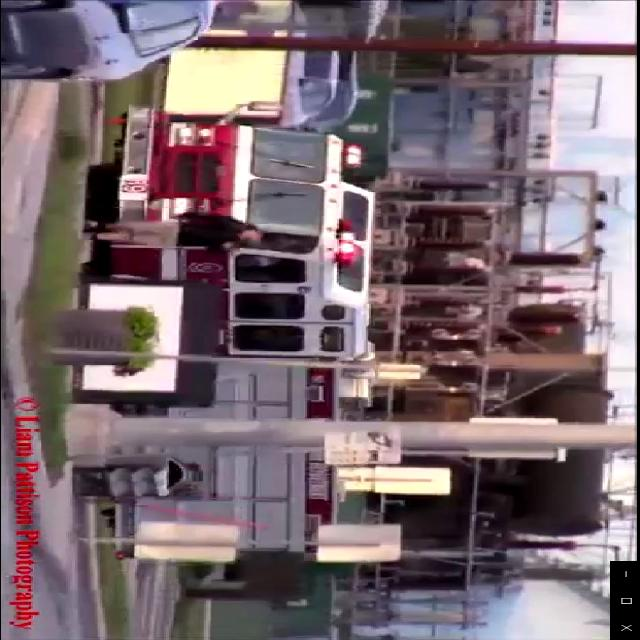emergency: (78, 98, 384, 568)
